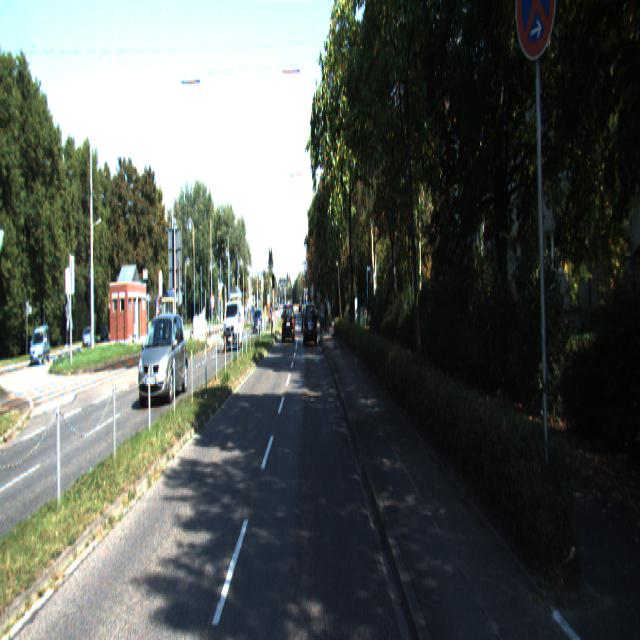Car: (138, 312, 188, 412), (223, 300, 244, 350), (304, 302, 318, 348), (283, 303, 295, 344)
